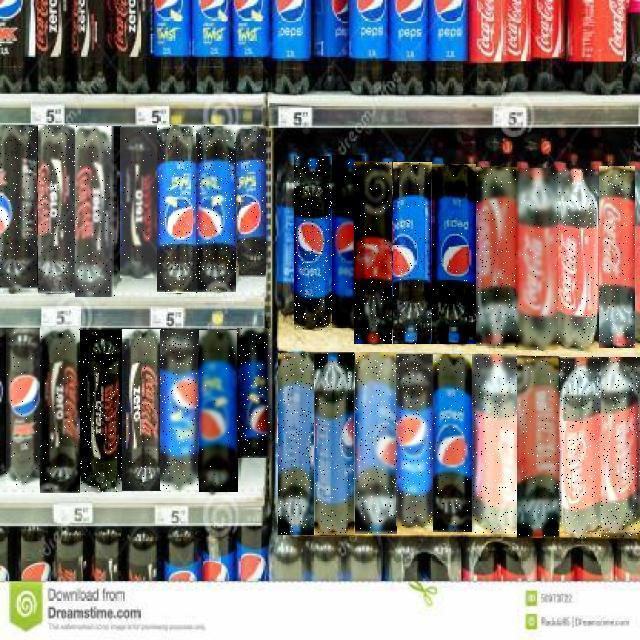Drinks: (472, 354, 517, 534), (517, 356, 560, 538), (394, 162, 436, 344), (516, 168, 558, 350), (557, 168, 599, 350), (355, 352, 397, 534), (559, 357, 601, 539), (435, 164, 477, 344), (476, 168, 518, 348), (600, 358, 640, 538), (315, 352, 354, 536), (433, 354, 473, 532), (354, 162, 392, 344), (76, 126, 116, 297), (80, 330, 122, 492), (157, 125, 197, 293), (196, 126, 236, 292), (40, 327, 80, 493), (294, 156, 332, 330), (599, 166, 635, 348), (278, 353, 314, 535), (397, 354, 435, 526), (38, 125, 76, 293), (122, 329, 161, 491), (199, 330, 238, 492), (0, 126, 37, 292), (160, 330, 198, 490), (332, 155, 365, 328), (120, 125, 157, 278), (7, 329, 43, 486), (236, 126, 266, 277), (238, 328, 272, 458)
